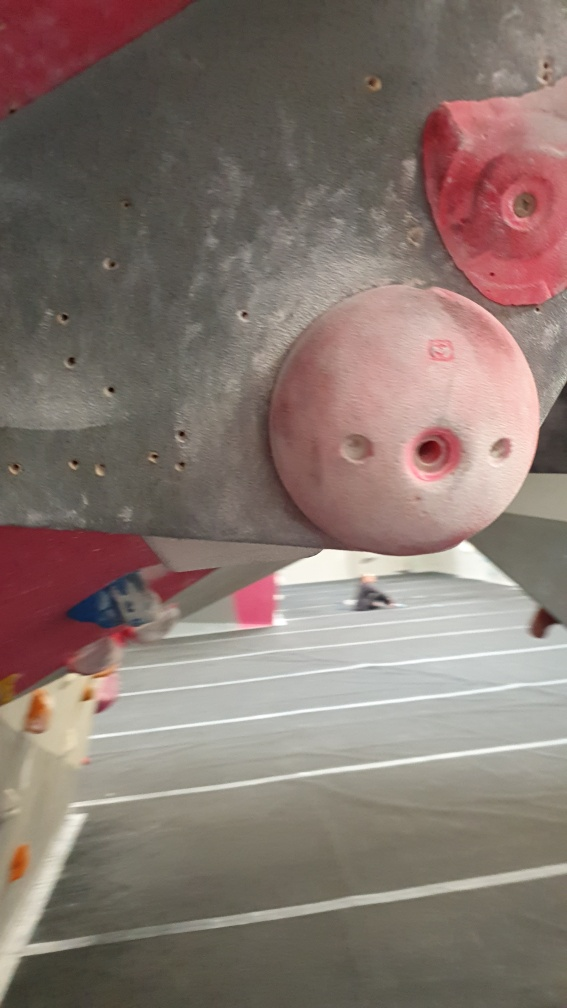Jug: (67, 570, 166, 634)
Sloper: (259, 279, 548, 561)
